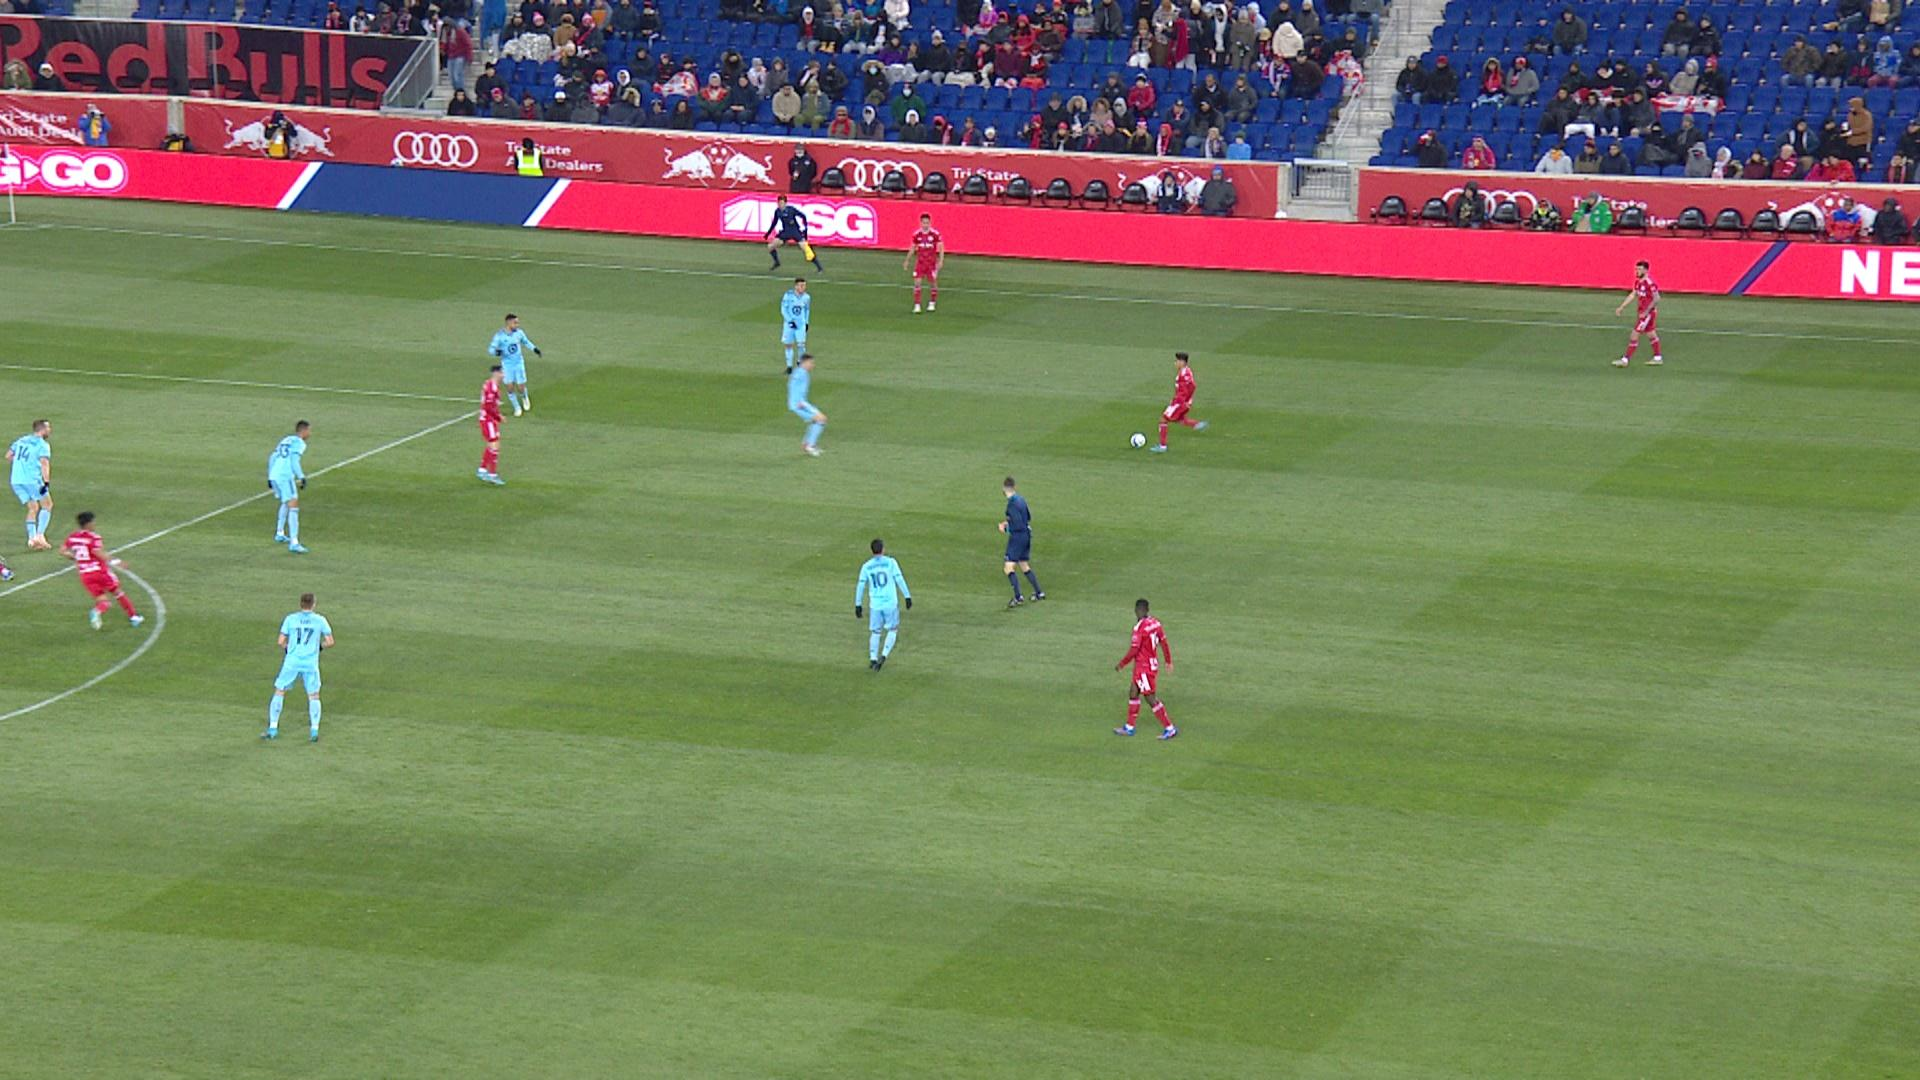football: (1130, 431, 1147, 448)
